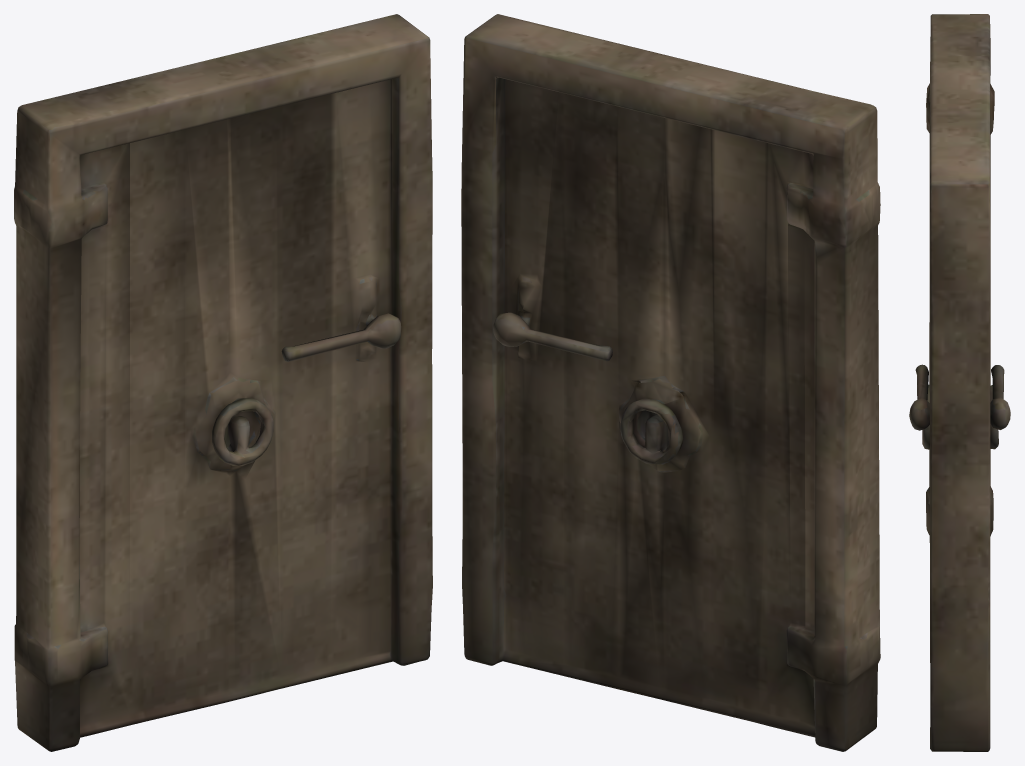
The model's file is simple-wood-cell-door-v001.glb.
3 renders of one model, left to right at view 1: azimuth 30°, elevation 25°; view 2: azimuth 150°, elevation 25°; view 3: azimuth 270°, elevation 25°, orthographic. The views are drawn at different scales.
Parts seen in each view (by area): view 1: simple-wood-cell-door; view 2: simple-wood-cell-door; view 3: simple-wood-cell-door.
Boxes of the visible parts, <box> form: simple-wood-cell-door: <box>14,14,432,751</box>; simple-wood-cell-door: <box>461,14,880,751</box>; simple-wood-cell-door: <box>909,14,1010,751</box>.
Bounding box in the file's own units: 1.49 × 2.28 × 0.3667.
1 material, 1 textured.
